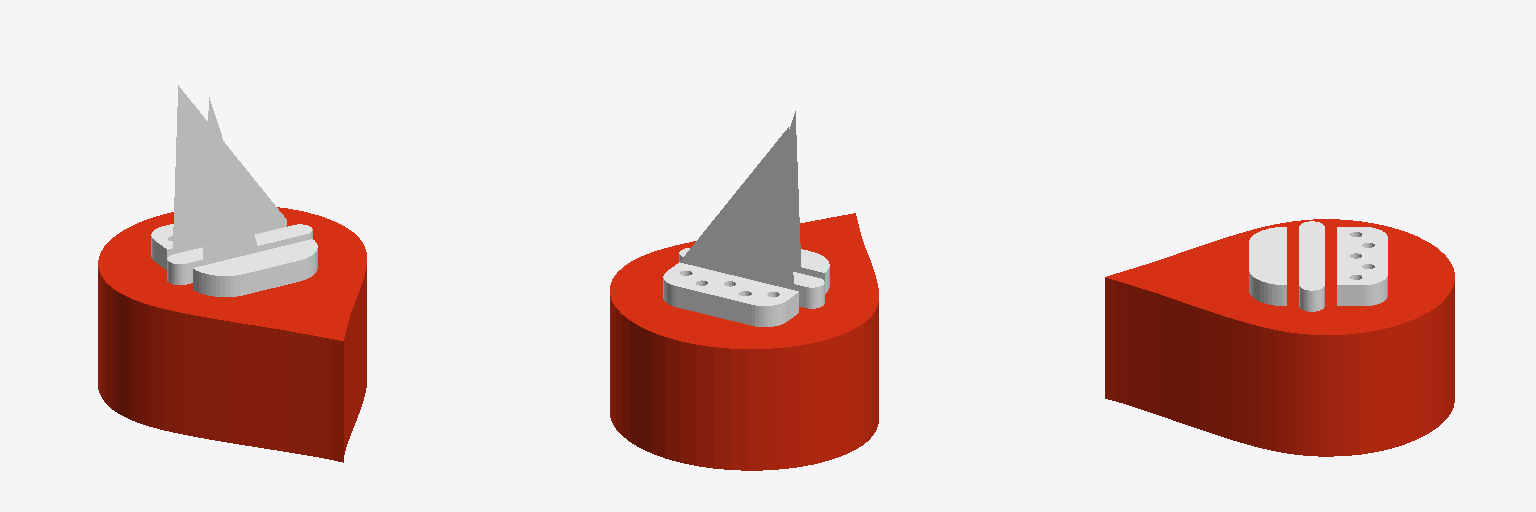
The model's file is fast-food.obj.
3 views of the same model, side by side, from view 1: azimuth 30°, elevation 25°; view 2: azimuth 150°, elevation 25°; view 3: azimuth 270°, elevation 25° (orthographic).
Parts seen in each view (by area): view 1: Curve_Curve.007, Curve.005_Curve.012, Curve.001_Curve.008; view 2: Curve_Curve.007, Curve.005_Curve.012, Curve.001_Curve.008; view 3: Curve_Curve.007, Curve.001_Curve.008, Curve.005_Curve.012.
Part boxes in pixels (x1,y1,x2,y2): Curve_Curve.007: (98,253,366,462); Curve.005_Curve.012: (151,85,317,296); Curve.001_Curve.008: (98,207,366,304); Curve_Curve.007: (610,213,878,470); Curve.005_Curve.012: (663,111,829,326); Curve.001_Curve.008: (610,249,877,348); Curve_Curve.007: (1105,225,1454,456); Curve.001_Curve.008: (1275,219,1454,334); Curve.005_Curve.012: (1249,221,1387,311).
Size of the model in its own units: 0.0062 by 0.008 by 0.0078.